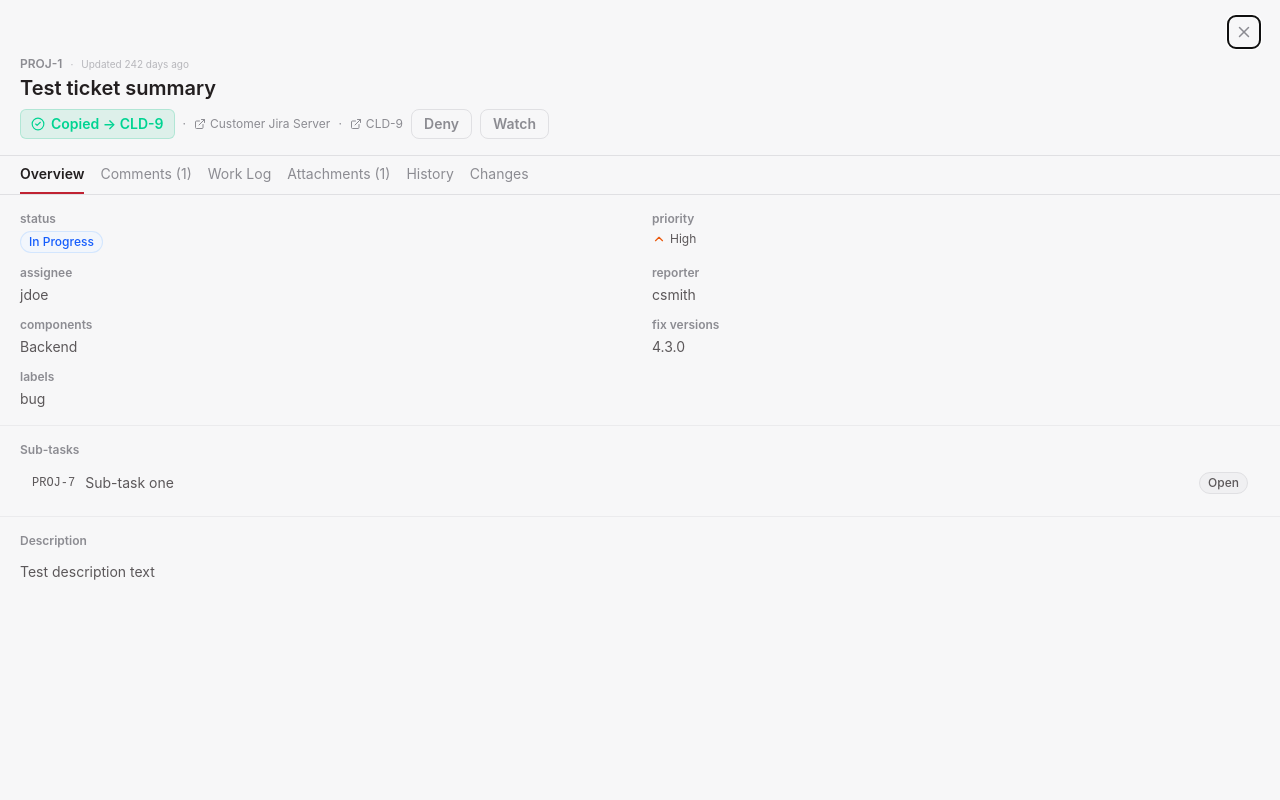
it: TicketDetailPanel › Phase 36 deny / link › Deny shows dialog first; Cancel returns focus to Deny with no write
Click the button "Deny" at point(442, 124), box [411, 109, 472, 139]
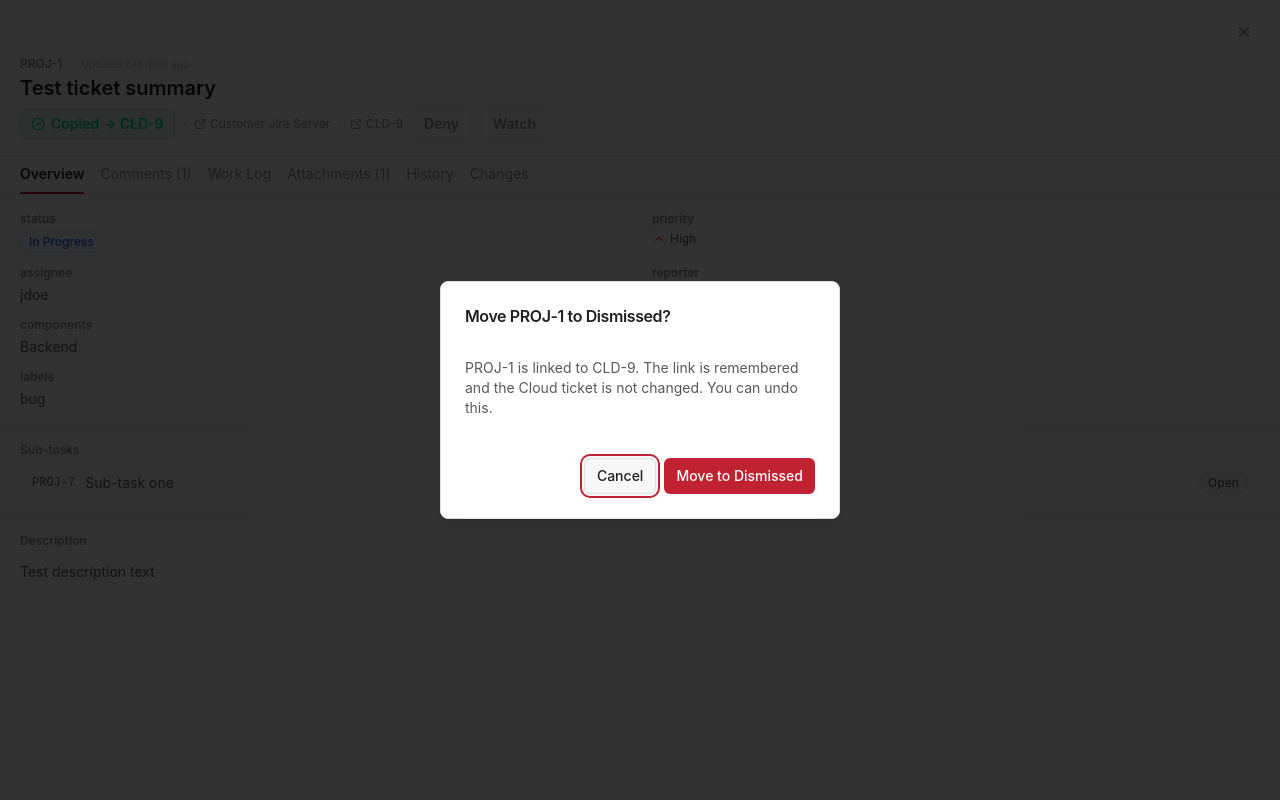
Now the dialog is shown, box [440, 281, 840, 519]
Click the button "Cancel" at point(620, 476), box [584, 458, 656, 494]
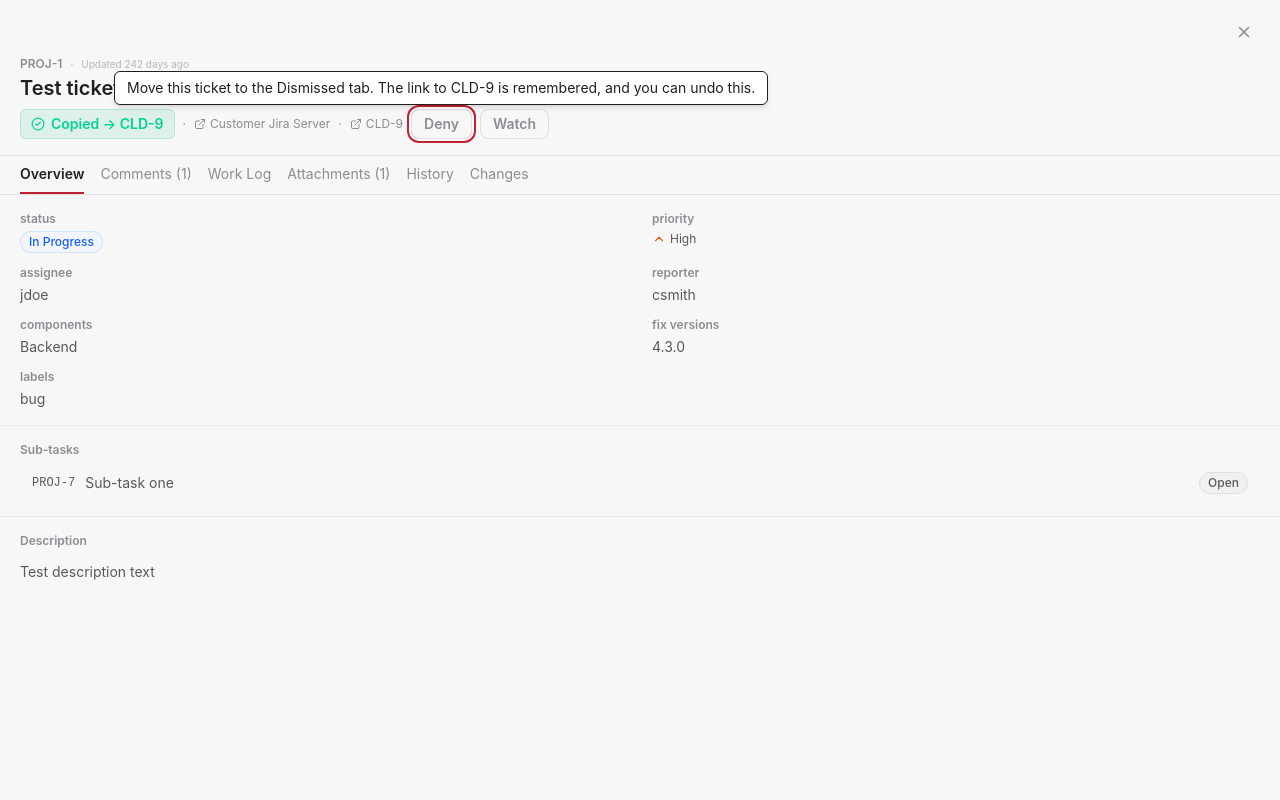
Now the dialog is gone
